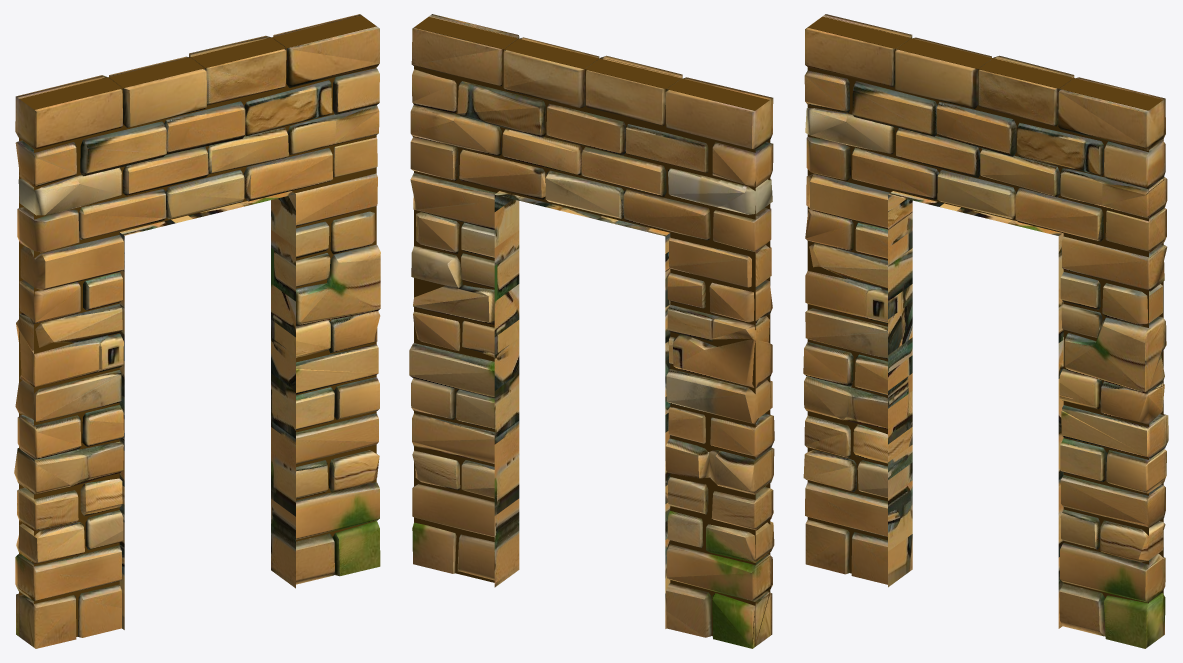
The model's file is wall-stone-door.glb.
3 renders of one model, left to right at view 1: azimuth 30°, elevation 25°; view 2: azimuth 150°, elevation 25°; view 3: azimuth 330°, elevation 25°, orthographic.
Bounding box in the file's own units: 2 × 3 × 0.25.
Materials: 1 (1 with a texture image).
